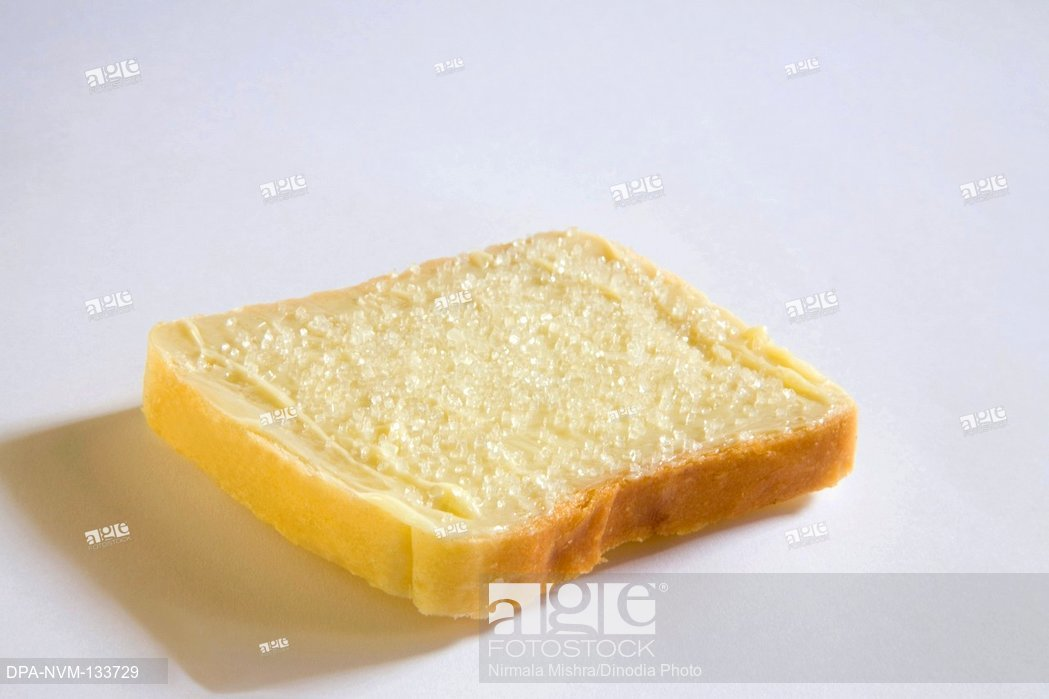slice of bread: (145, 286, 898, 546)
